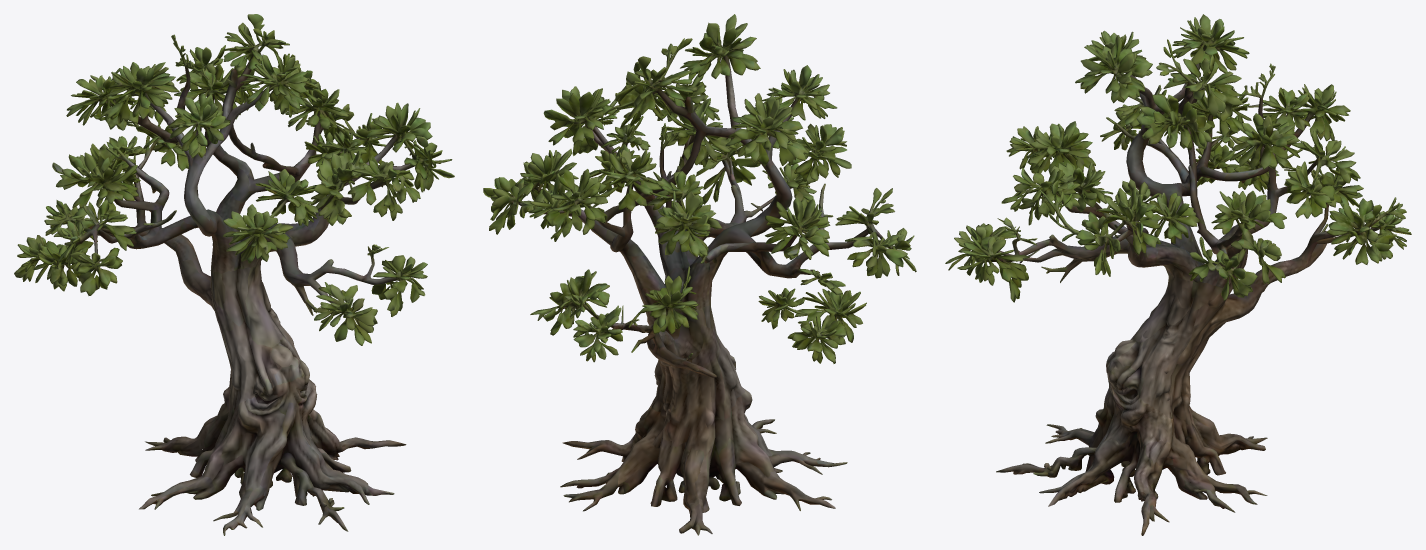
File: tree-ancient.glb
3 views of the same model, side by side, from view 1: azimuth 30°, elevation 25°; view 2: azimuth 150°, elevation 25°; view 3: azimuth 270°, elevation 25° (orthographic). The views are drawn at different scales.
Parts seen in each view (by area): view 1: tripo_node_5590d20a-c9b6-421a-ad9c-9a6273698430; view 2: tripo_node_5590d20a-c9b6-421a-ad9c-9a6273698430; view 3: tripo_node_5590d20a-c9b6-421a-ad9c-9a6273698430.
Boxes of the visible parts, x1,y1,x2,y2 form: tripo_node_5590d20a-c9b6-421a-ad9c-9a6273698430: (14, 14, 454, 535); tripo_node_5590d20a-c9b6-421a-ad9c-9a6273698430: (483, 14, 916, 535); tripo_node_5590d20a-c9b6-421a-ad9c-9a6273698430: (945, 14, 1411, 535).
Size of the model in its own units: 0.8561 by 0.9791 by 0.9623.
Materials: 1 (1 with a texture image).
